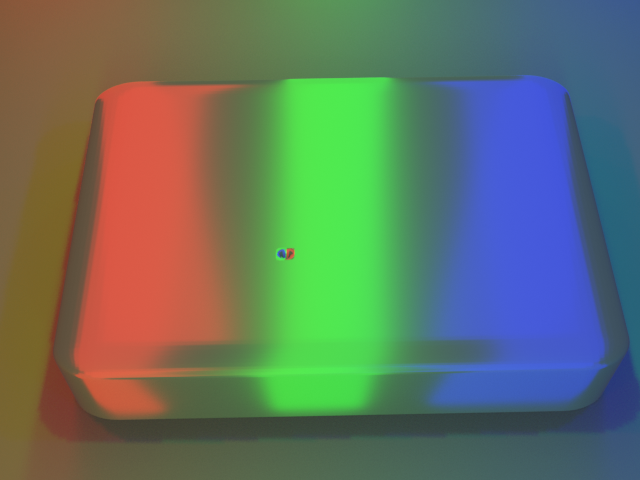dent: (263, 236, 303, 279)
